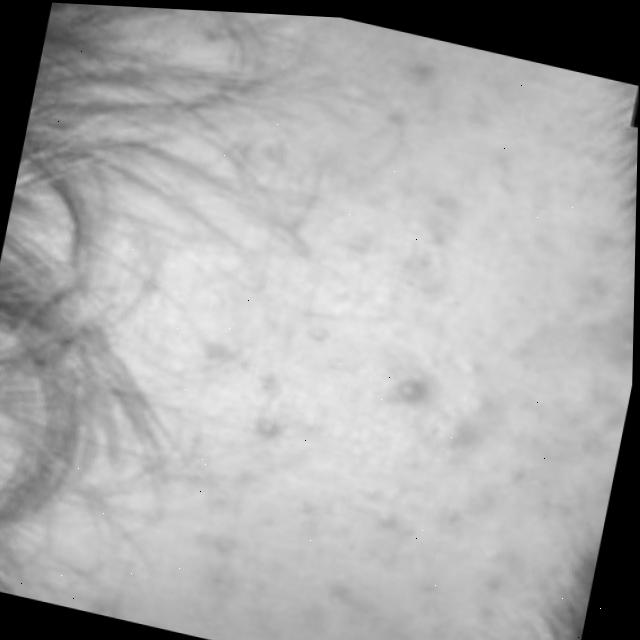Acne: (77, 5, 595, 640)
